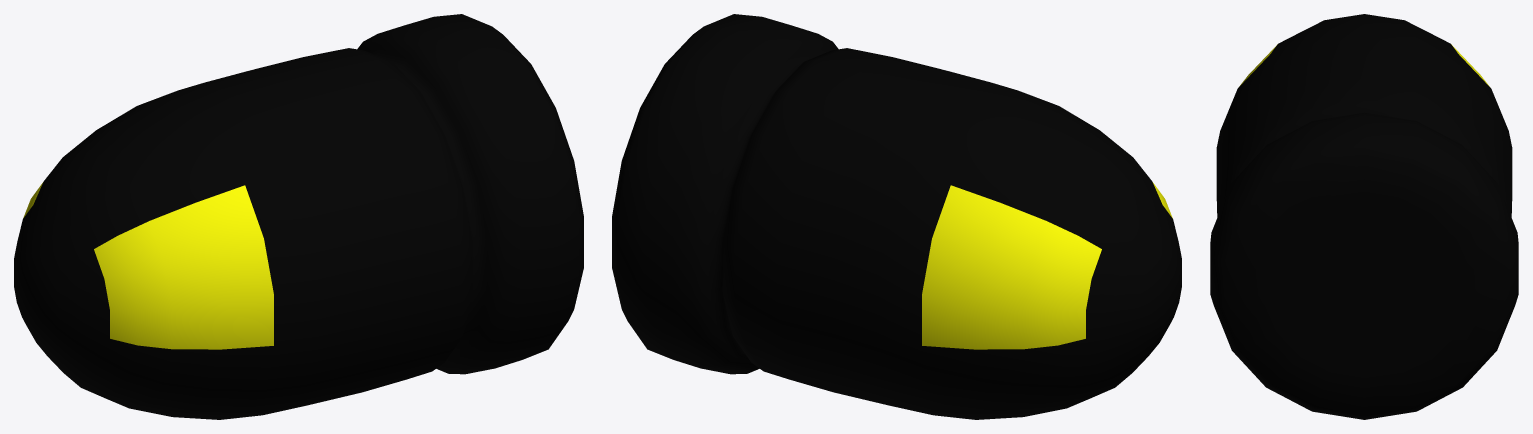
3 views of the same model, side by side, from view 1: azimuth 30°, elevation 25°; view 2: azimuth 150°, elevation 25°; view 3: azimuth 270°, elevation 25° (orthographic). The views are drawn at different scales.
Parts seen in each view (by area): view 1: Boom; view 2: Boom; view 3: Boom.
Boxes of the visible parts, bbox=[...] form: Boom: bbox=[14, 14, 583, 419]; Boom: bbox=[612, 14, 1181, 419]; Boom: bbox=[1210, 14, 1518, 419].
Bounding box in the file's own units: 30.75 × 20.07 × 19.77.
2 materials, 1 textured.
